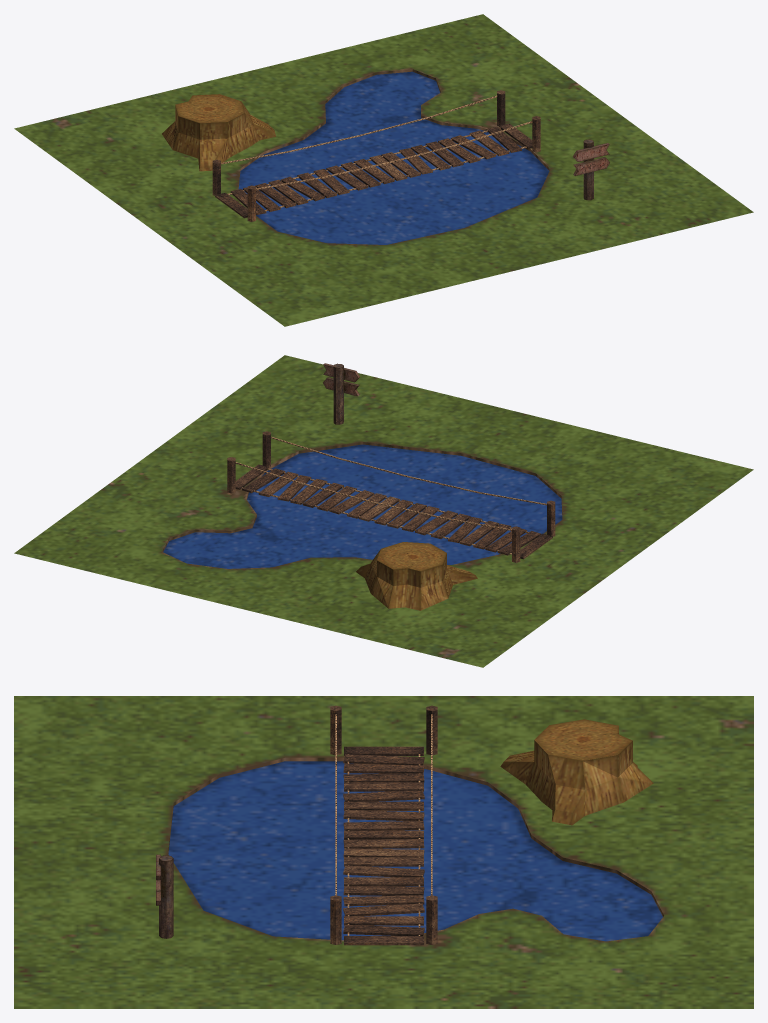
The model's file is Env_Forest_L1M2_FINAL.fbx.
The picture shows the model from 3 angles, top to bottom: view 1: azimuth 30°, elevation 25°; view 2: azimuth 150°, elevation 25°; view 3: azimuth 270°, elevation 25°; orthographic projection. The views are drawn at different scales.
Parts seen in each view (by area): view 1: L1M2.001; view 2: L1M2.001; view 3: L1M2.001.
Part boxes in pixels (x1,y1,x2,y2): L1M2.001: (14,14,753,326); L1M2.001: (14,355,753,667); L1M2.001: (14,696,753,1008).
Size of the model in its own units: 1500 by 189 by 1500.
